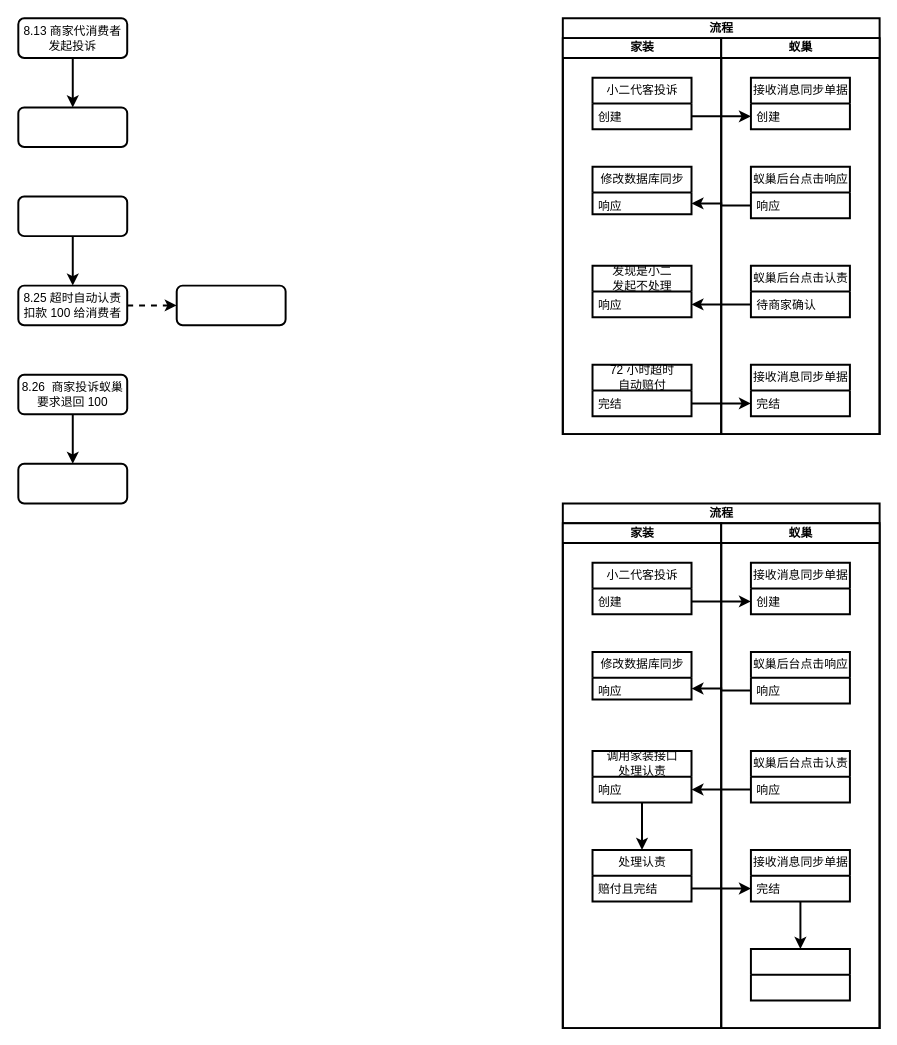
Some shapes in this 897 by 1045 pixel diagram are drawn without their labels. Each missing label, with the centre of its shape:
"8.16 被驳回" belongs at [72,127].
"8.22 家装小二代客发起投诉" belongs at [72,216].
"8.25 CCO小二扣100给消费者" belongs at [230,305].
"8.26 家装小二判蚁巢责任归还 100 给商家" belongs at [72,483].
"发起调整单 追责下游服务商" belongs at [799,974].
